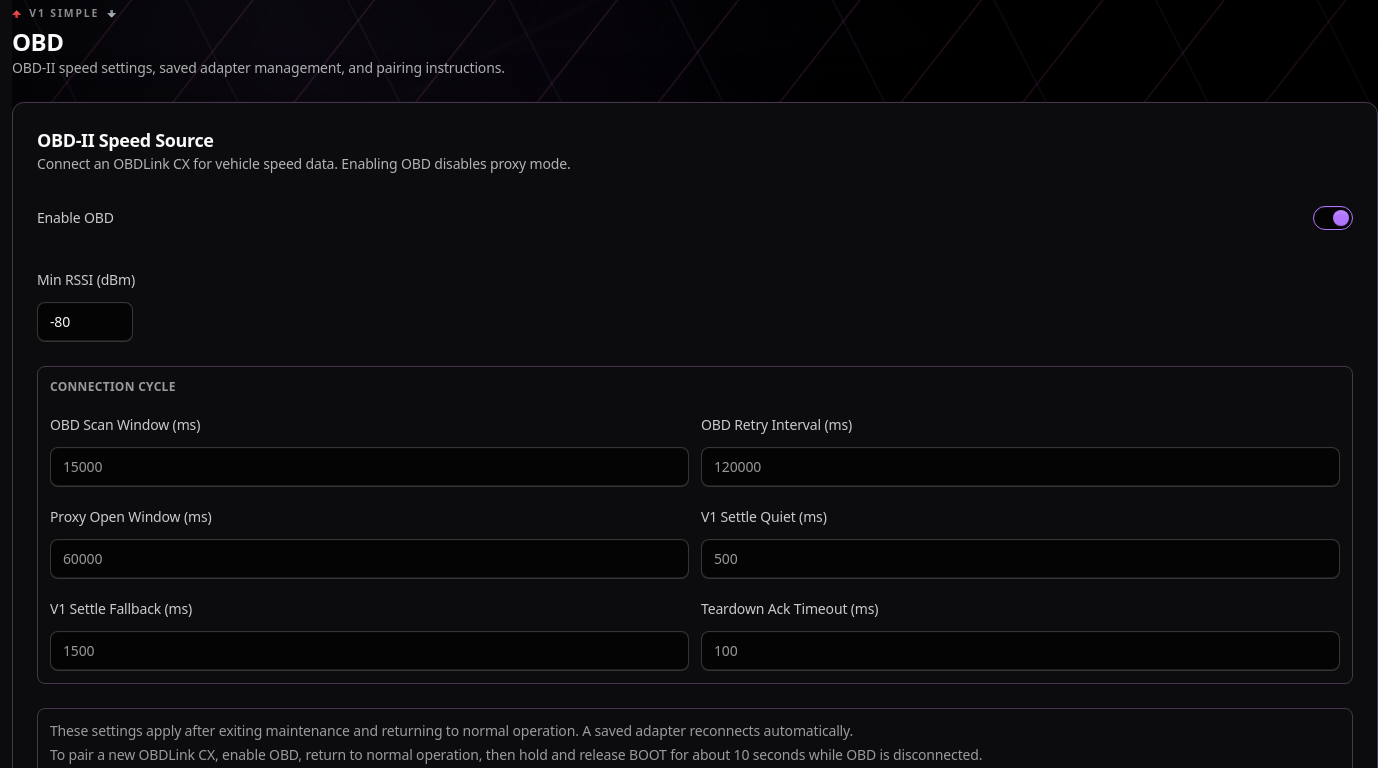
obd route page › re-fetches the captured canonical config after an out-of-range save
The image size is (1378, 768).
Type "-10" into the number field labelled "Min RSSI (dBm)".
click(85, 322); type("-10")  # box [37,302,133,342]
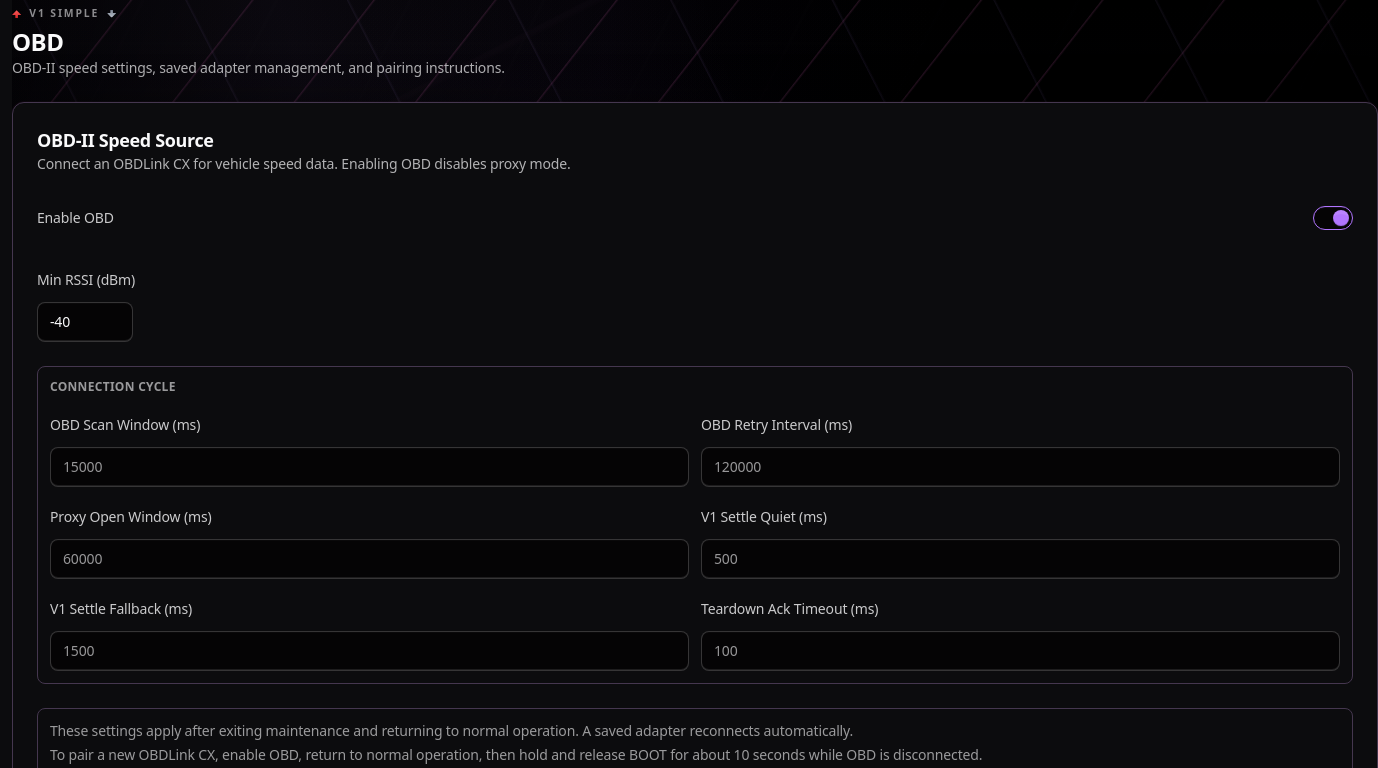
Now the number field labelled "Min RSSI (dBm)" holds "-40", box [37,302,133,342]
